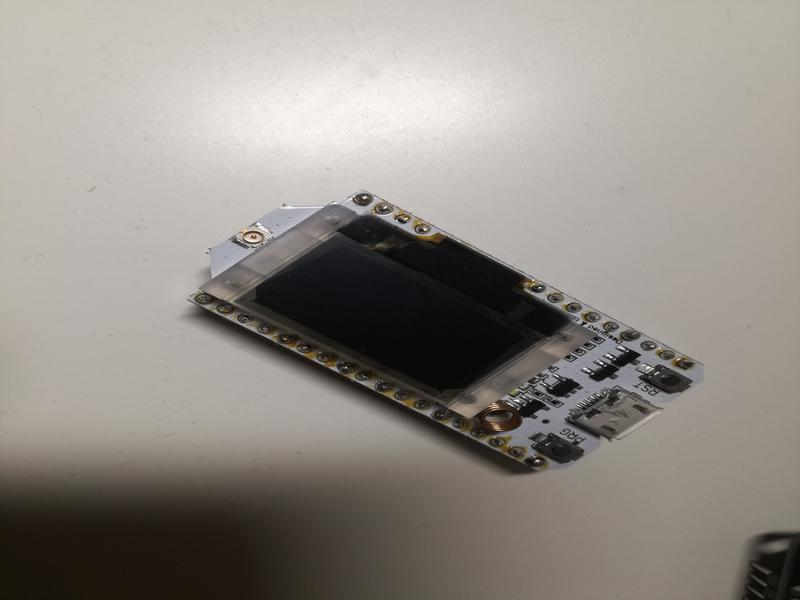Heltec_ESP32_Lora: (186, 187, 710, 478)
